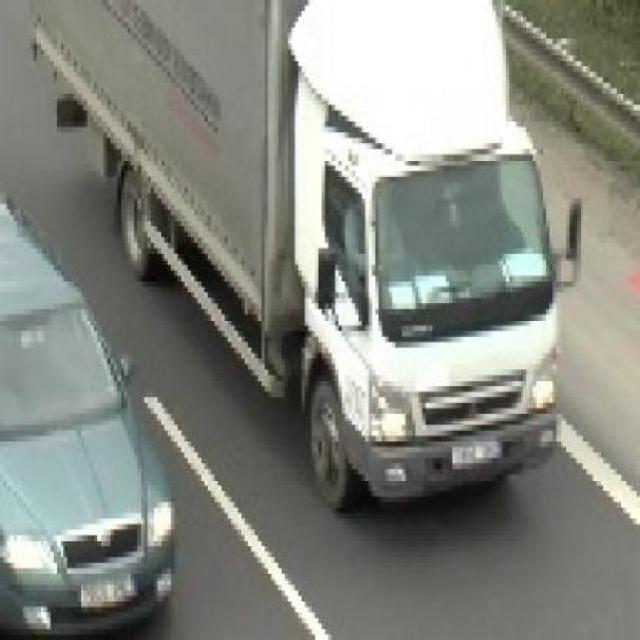truck: (31, 1, 580, 515)
